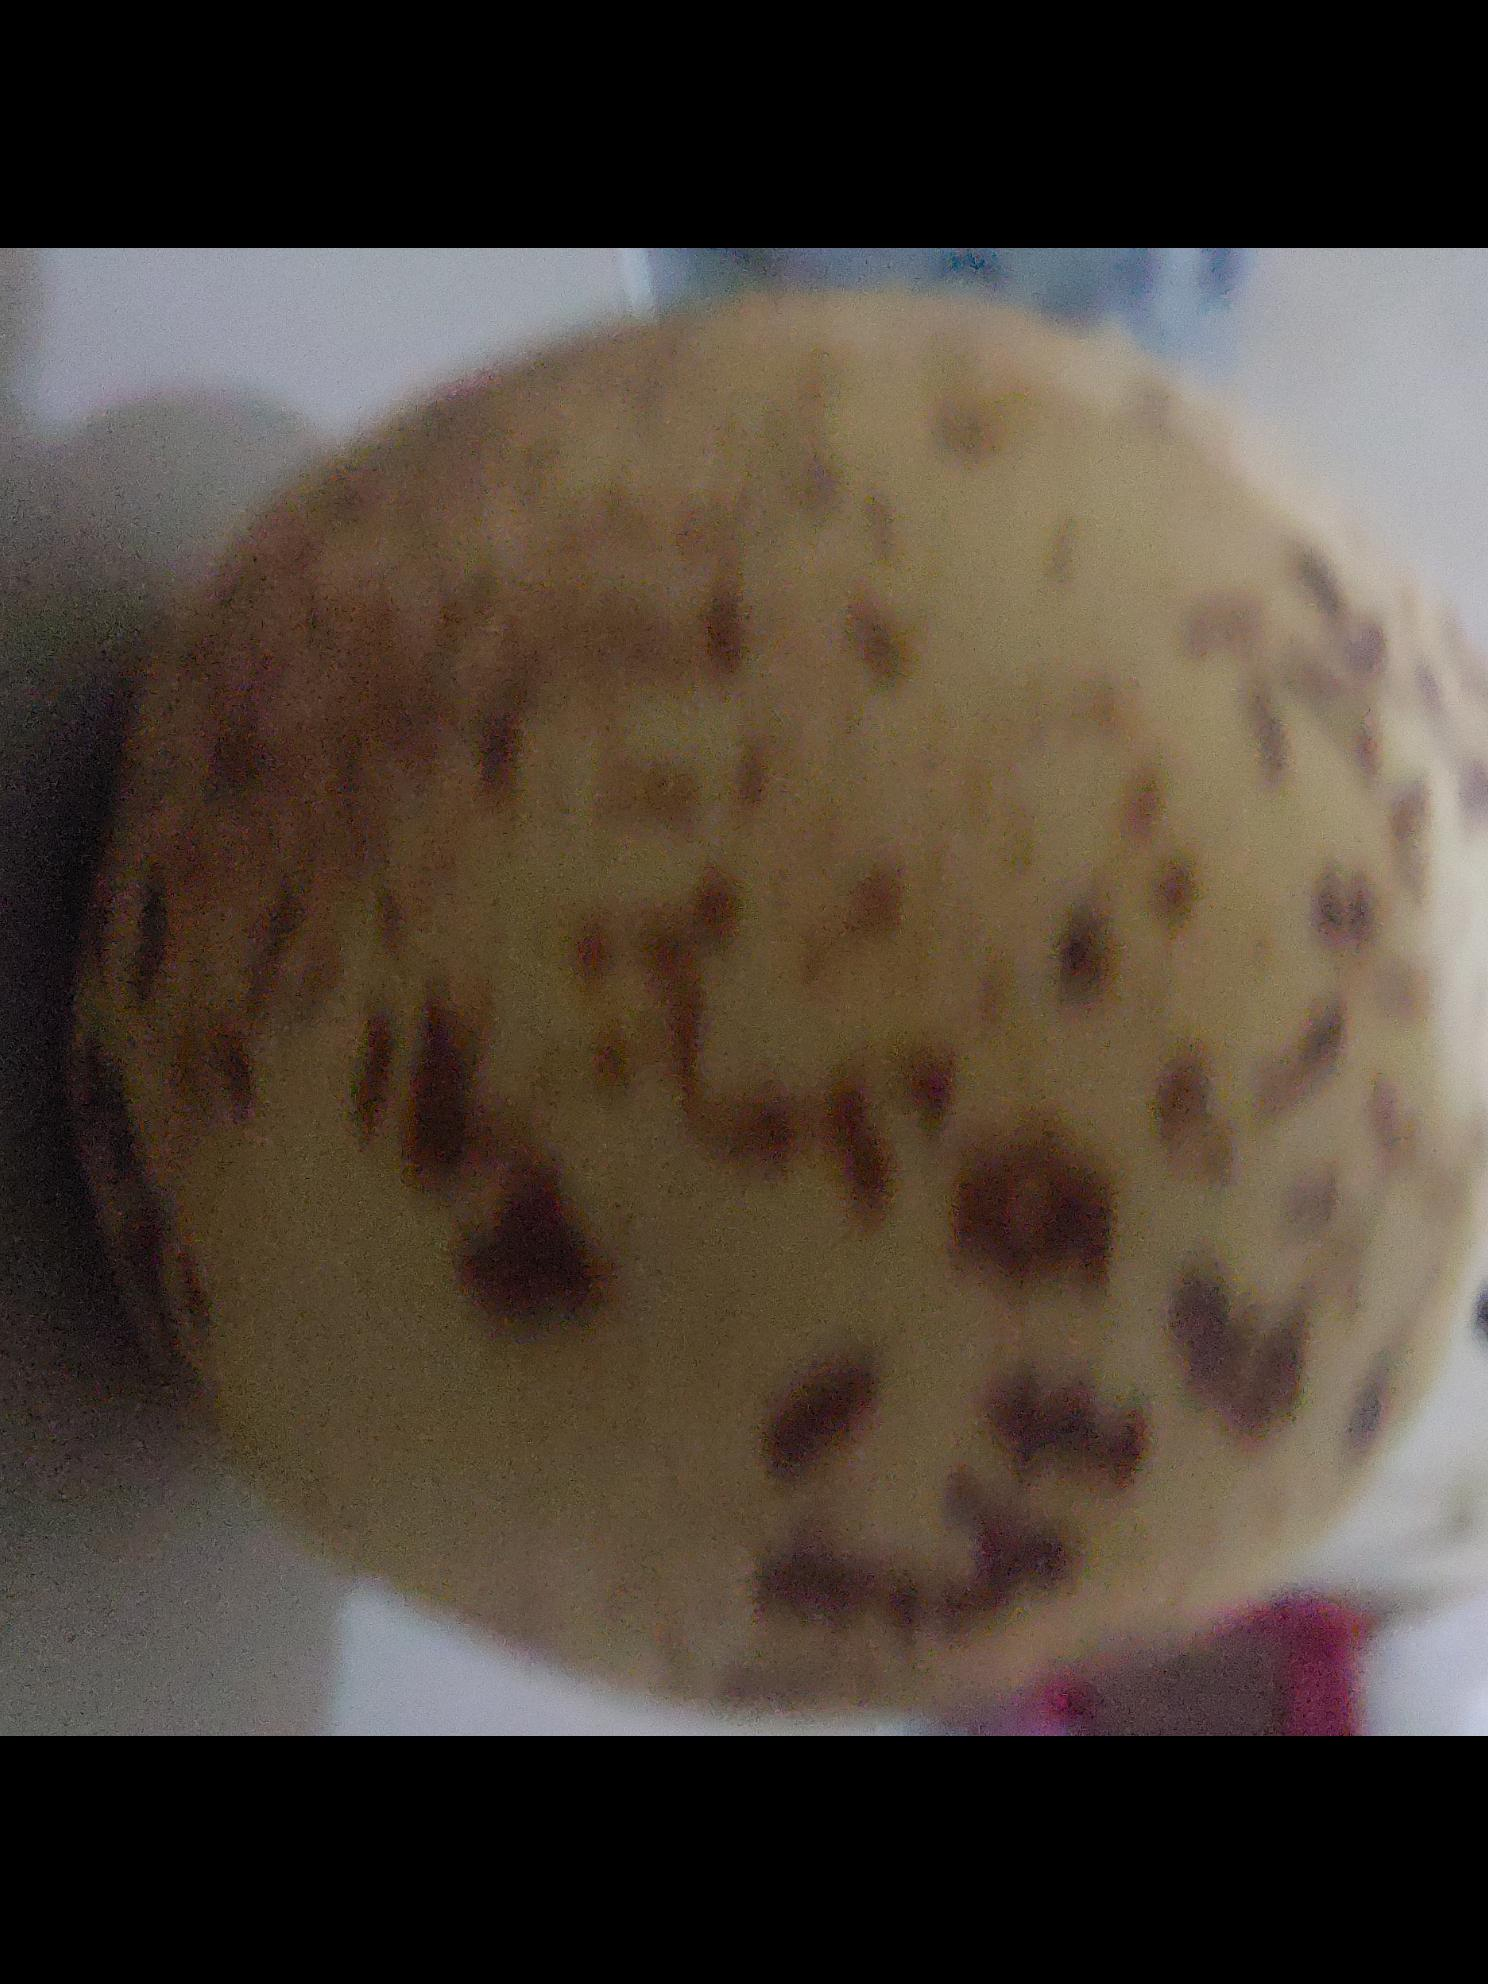Bad Pear: (73, 308, 1488, 1704)
